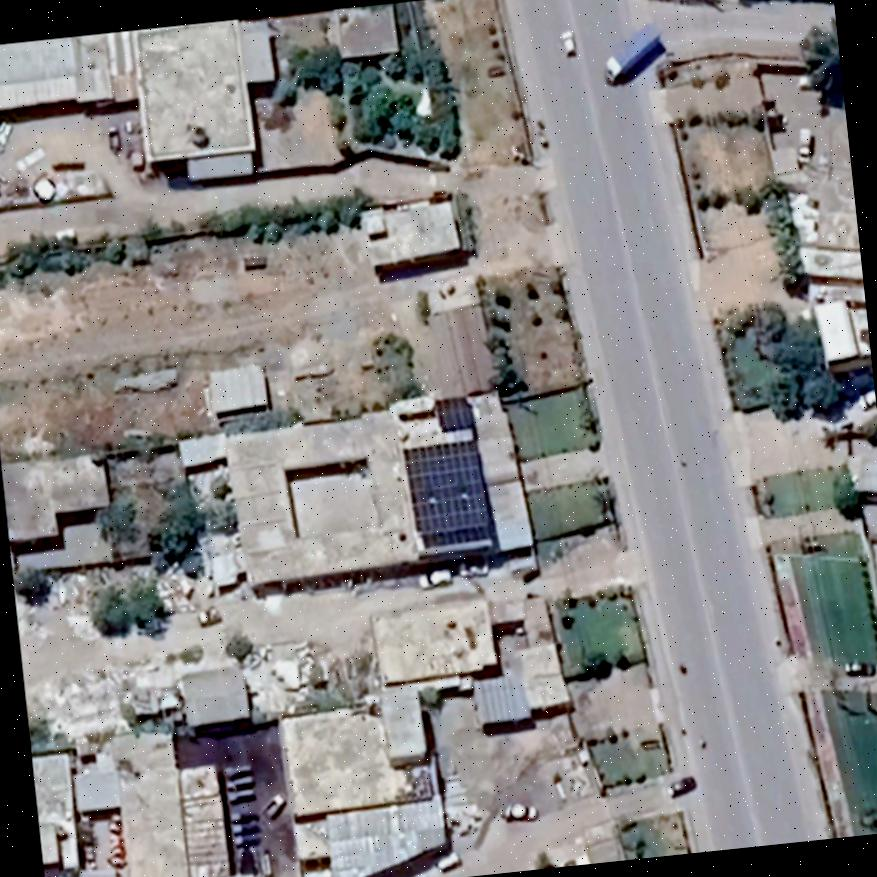Solarpanel: (396, 432, 500, 548), (426, 394, 481, 435)
